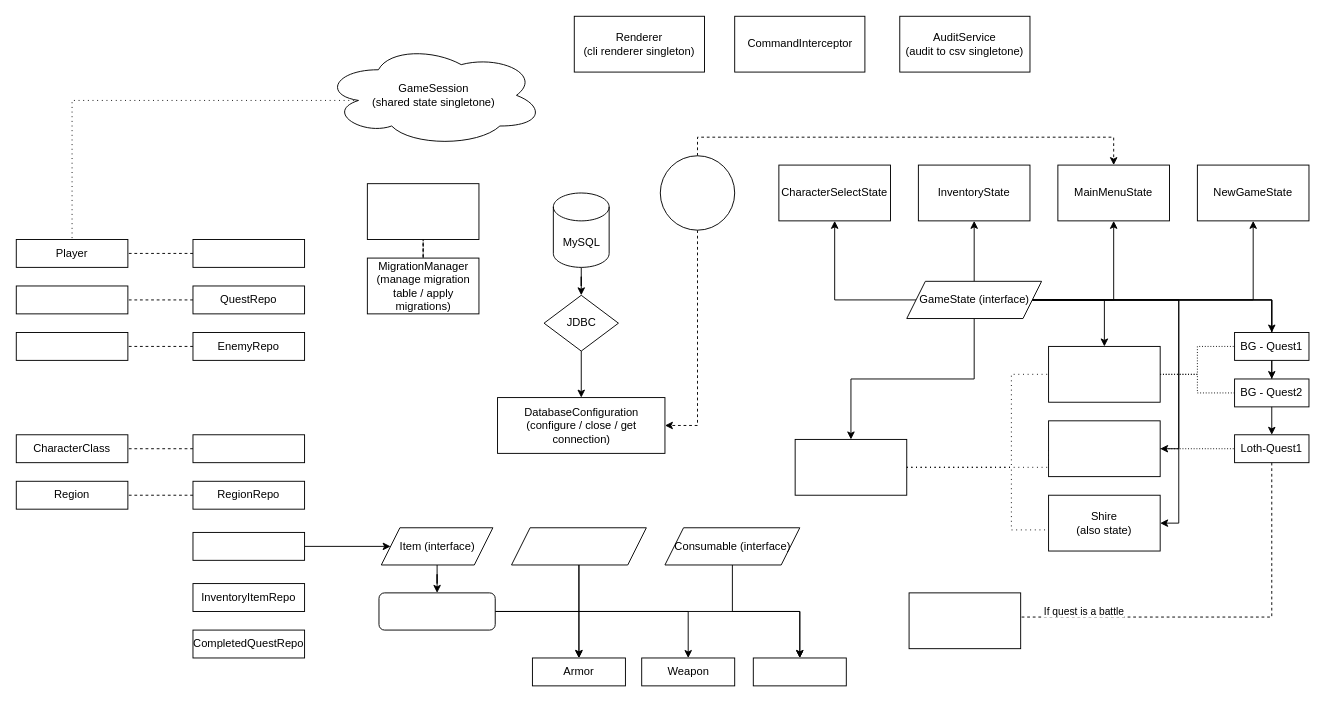
This 1325x702 diagram has some shape labels left out. The shapes that lost their labels are listed below. From the top down, each one's centre as x and y in pixels, then its label:
At point (422, 211): "Migration".
At point (697, 192): "App.java (entrypoint)".
At point (248, 253): "PlayerRepo".
At point (71, 299): "Quest".
At point (71, 346): "Enemy".
At point (1104, 373): "BlackGate (also state)".
At point (248, 448): "CharacterClassRepo".
At point (850, 466): "OpenWorld (also state)".
At point (1104, 448): "Lothlorien (also state)".
At point (248, 545): "ItemRepo".
At point (578, 546): "Equipable (interface)".
At point (436, 611): "AbstractItem (Abstract)".
At point (964, 620): "BattleEngine".
At point (799, 671): "Potion".
